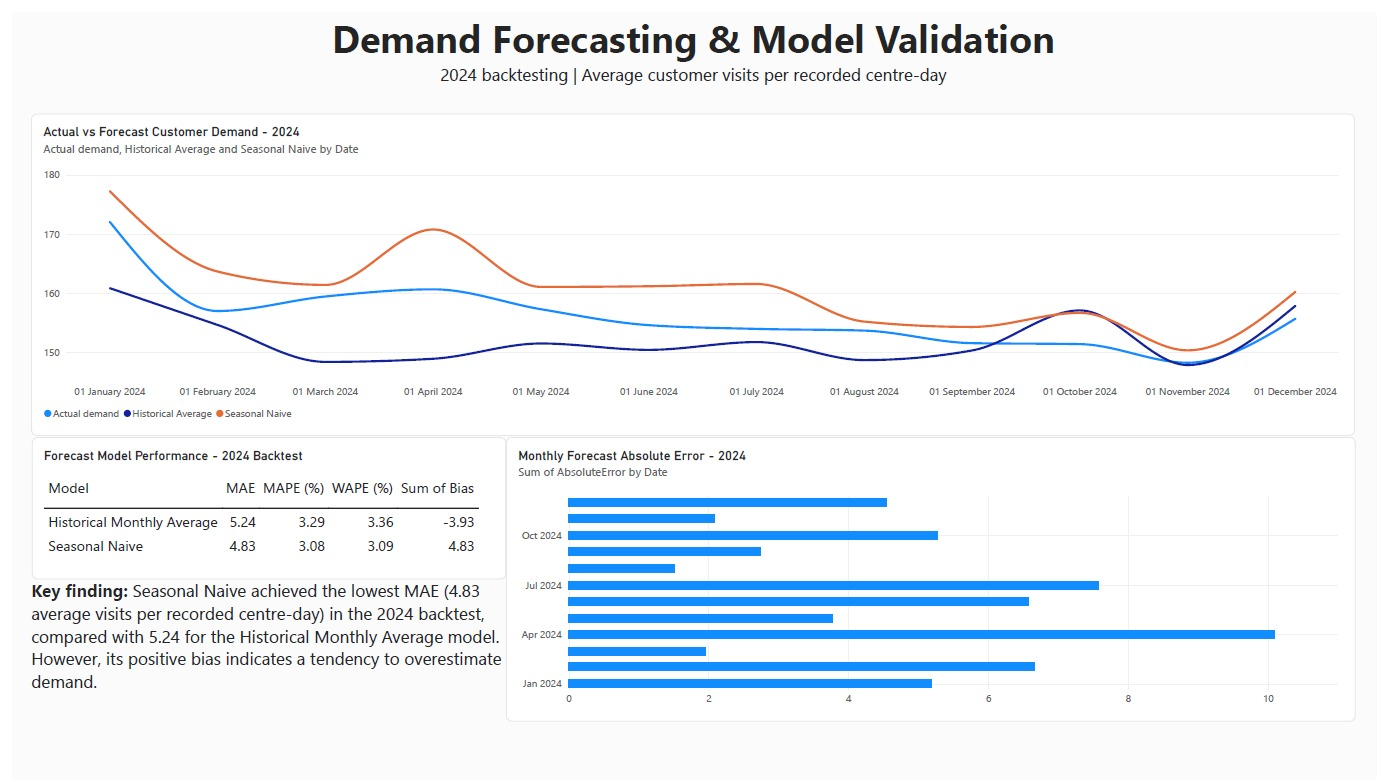

The dashboard page shown, as its layout file describes it:
{"tool":"powerbi","page":{"name":"Demand Forecasting","canvas":[1920,1080],"ordinal":2},"visuals":[{"type":"textbox","box":[26.7,0,1863.3,116.7],"z":0},{"type":"lineChart","title":"Actual vs Forecast Customer Demand - 2024","fields":{"Category":["ForecastValidation2024.Date"],"Y":["Avg(ForecastValidation2024.ActualAvgVisitsPerCentreDay)","Avg(ForecastValidation2024.HistoricalAvgVisitsForecast)","Avg(ForecastValidation2024.SeasonalNaiveAvgVisitsForecast)"]},"box":[26.7,143.3,1862.5,452.5],"z":1000},{"type":"tableEx","title":"Forecast Model Performance - 2024 Backtest","fields":{"Values":["ForecastModelComparison.Model","ForecastModelComparison.MAE","ForecastModelComparison.MAPE (%)","ForecastModelComparison.WAPE (%)","Sum(ForecastModelComparison.Bias)"]},"box":[27.5,597.5,667.5,200],"z":2000},{"type":"textbox","box":[26.7,796.7,670,200],"z":3000},{"type":"clusteredBarChart","title":"Monthly Forecast Absolute Error - 2024","fields":{"Category":["ForecastValidation2024.Date"],"Y":["Sum(ForecastValidation2024.AbsoluteError)"]},"box":[695,597.5,1195,400],"z":4000}]}

Visuals, with their boxes in screenshot pixels (x1, y1, x2, y2), scaled from the page's 1920x1080 canvas onto the 1382x783 screenshot:
textbox: <region>19, 0, 1360, 85</region>
"Actual vs Forecast Customer Demand - 2024" lineChart: <region>19, 104, 1360, 432</region>
"Forecast Model Performance - 2024 Backtest" tableEx: <region>20, 433, 500, 578</region>
textbox: <region>19, 578, 501, 723</region>
"Monthly Forecast Absolute Error - 2024" clusteredBarChart: <region>500, 433, 1360, 723</region>
